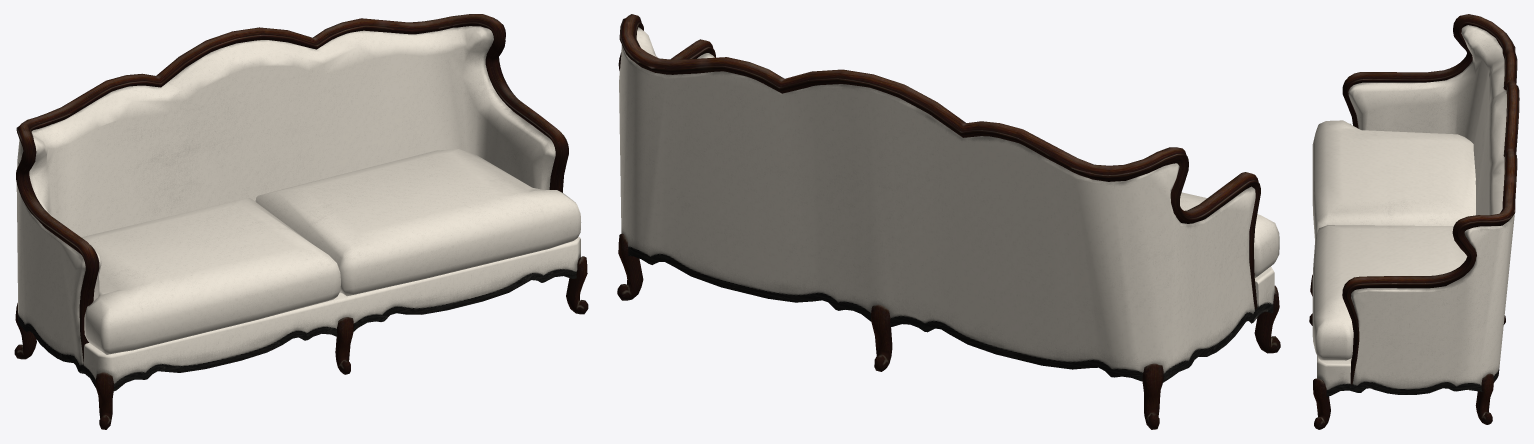
The model's file is sofa-classic.glb.
The picture shows the model from 3 angles, left to right: view 1: azimuth 30°, elevation 25°; view 2: azimuth 150°, elevation 25°; view 3: azimuth 270°, elevation 25°; orthographic projection. The views are drawn at different scales.
Visible parts, largest first — view 1: Sofa_01; view 2: Sofa_01; view 3: Sofa_01.
Boxes of the visible parts, x1,y1,x2,y2 form: Sofa_01: (14,14,588,429); Sofa_01: (617,14,1280,429); Sofa_01: (1309,14,1519,429).
Bounding box in the file's own units: 1.57 × 0.7965 × 0.658.
Materials: 2 (2 with a texture image).
